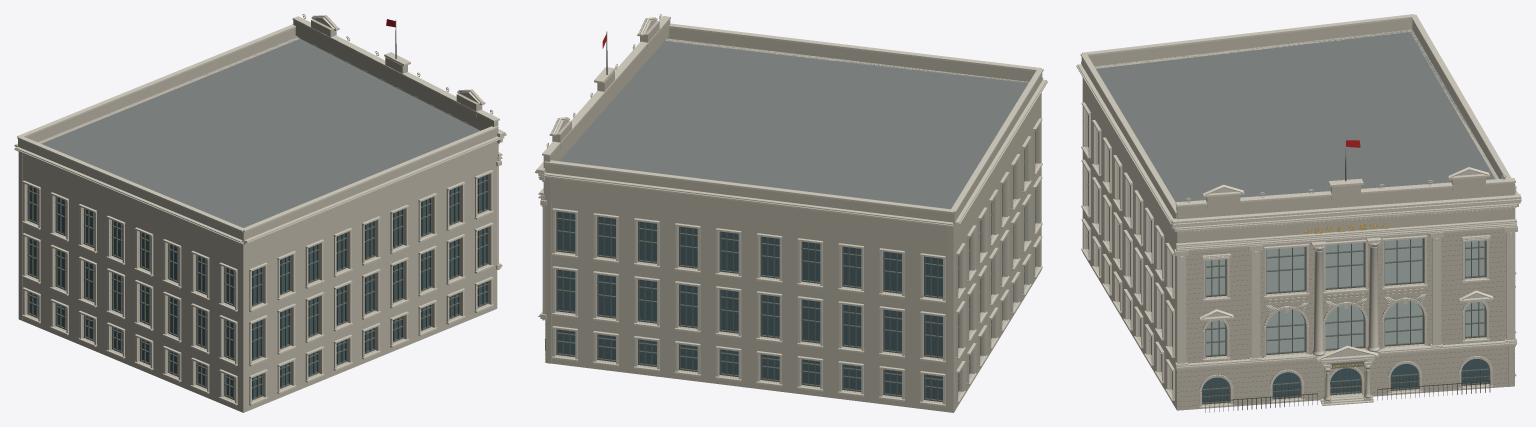
File: bund15.glb
The picture shows the model from 3 angles, left to right: view 1: azimuth 30°, elevation 25°; view 2: azimuth 150°, elevation 25°; view 3: azimuth 270°, elevation 25°; orthographic projection. The views are drawn at different scales.
Visible parts, largest first — view 1: Russo Chinese Bank Bund 15; view 2: Russo Chinese Bank Bund 15; view 3: Russo Chinese Bank Bund 15.
Part boxes in pixels (<box>): Russo Chinese Bank Bund 15: <box>14,14,506,412</box>; Russo Chinese Bank Bund 15: <box>535,14,1047,412</box>; Russo Chinese Bank Bund 15: <box>1076,14,1521,412</box>.
Size of the model in its own units: 48.72 by 29 by 45.09.
